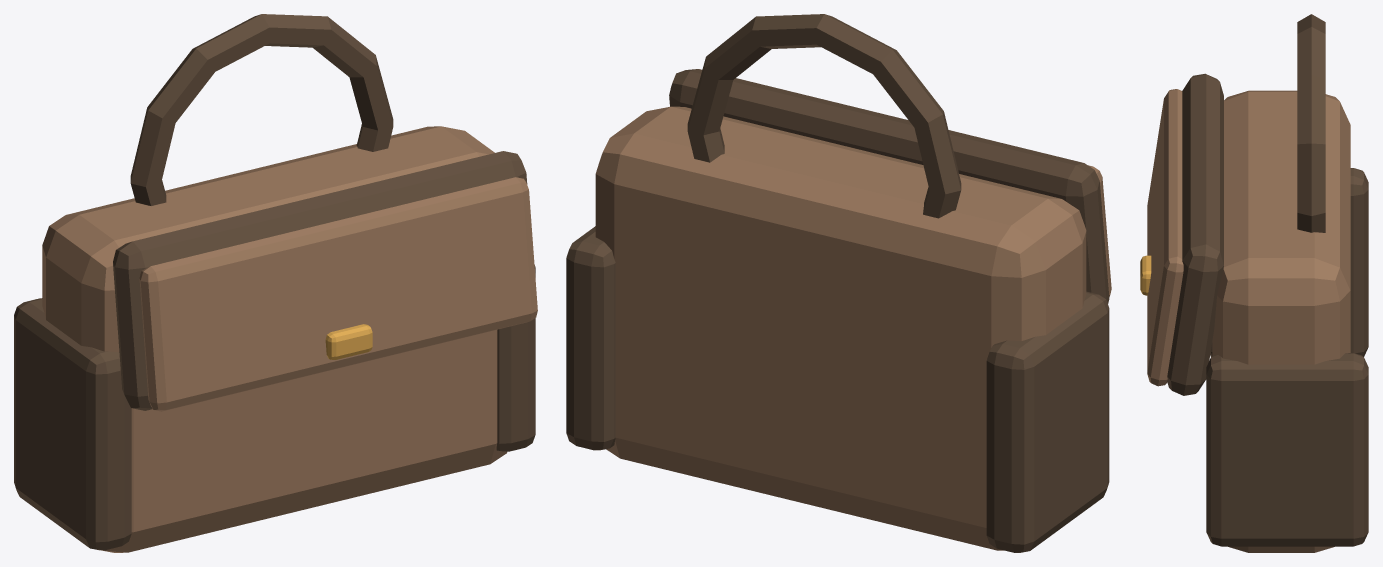
File: satchel.glb
The picture shows the model from 3 angles, left to right: view 1: azimuth 30°, elevation 25°; view 2: azimuth 150°, elevation 25°; view 3: azimuth 270°, elevation 25°; orthographic projection. The views are drawn at different scales.
Visible parts, largest first — view 1: SatchelBody, FlapFace, LeftGusset, SatchelFlap, SatchelHandle, RightGusset, SatchelLatch; view 2: SatchelBody, LeftGusset, SatchelFlap, SatchelHandle, RightGusset; view 3: SatchelBody, RightGusset, SatchelFlap, FlapFace, SatchelHandle, LeftGusset, SatchelLatch.
Part boxes in pixels (left/top/right/bottom): SatchelBody: left=42, top=126, right=507, bottom=552; FlapFace: left=139, top=177, right=537, bottom=411; LeftGusset: left=14, top=298, right=131, bottom=550; SatchelFlap: left=113, top=151, right=527, bottom=410; SatchelHandle: left=130, top=14, right=393, bottom=205; RightGusset: left=496, top=265, right=535, bottom=451; SatchelLatch: left=325, top=324, right=372, bottom=359; SatchelBody: left=595, top=106, right=1086, bottom=550; LeftGusset: left=986, top=291, right=1109, bottom=552; SatchelFlap: left=669, top=69, right=1109, bottom=303; SatchelHandle: left=687, top=14, right=961, bottom=218; RightGusset: left=566, top=226, right=615, bottom=450; SatchelBody: left=1212, top=90, right=1350, bottom=552; RightGusset: left=1206, top=353, right=1368, bottom=546; SatchelFlap: left=1167, top=73, right=1223, bottom=395; FlapFace: left=1147, top=89, right=1183, bottom=386; SatchelHandle: left=1297, top=14, right=1325, bottom=232; LeftGusset: left=1210, top=168, right=1368, bottom=356; SatchelLatch: left=1140, top=255, right=1151, bottom=295.
Bounding box in the file's own units: 1.62 × 1.63 × 0.76.
